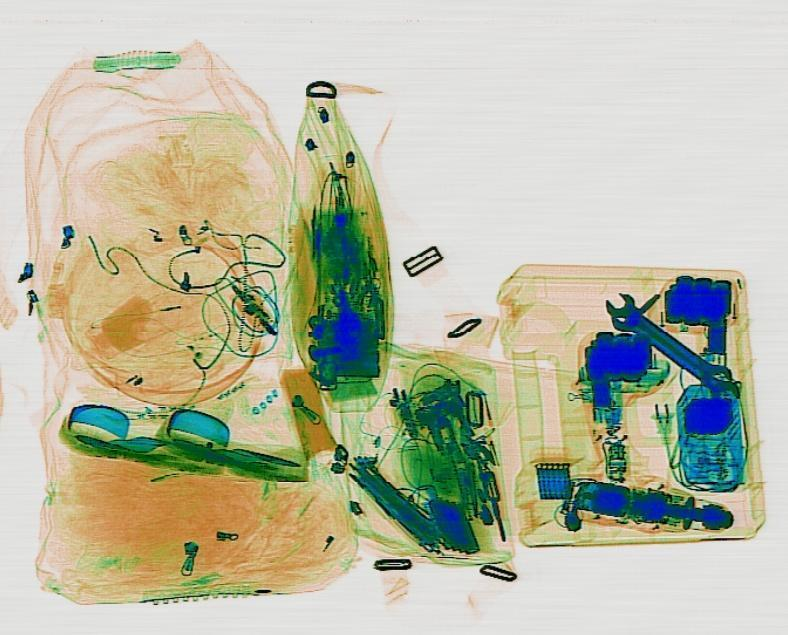Wrench: (605, 301, 751, 410), (594, 287, 738, 394)
